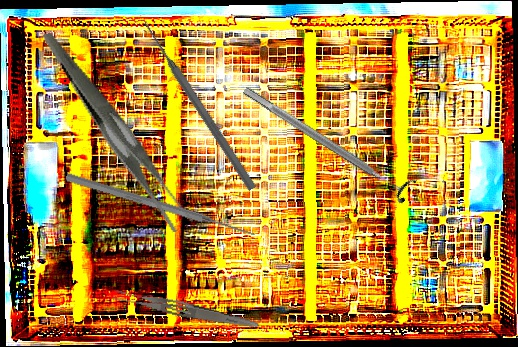Dressing Forceps: (42, 8, 195, 253), (109, 286, 262, 332)
Fixation Ring: (236, 76, 418, 207)
Pusher: (139, 18, 259, 193), (64, 171, 258, 241)
